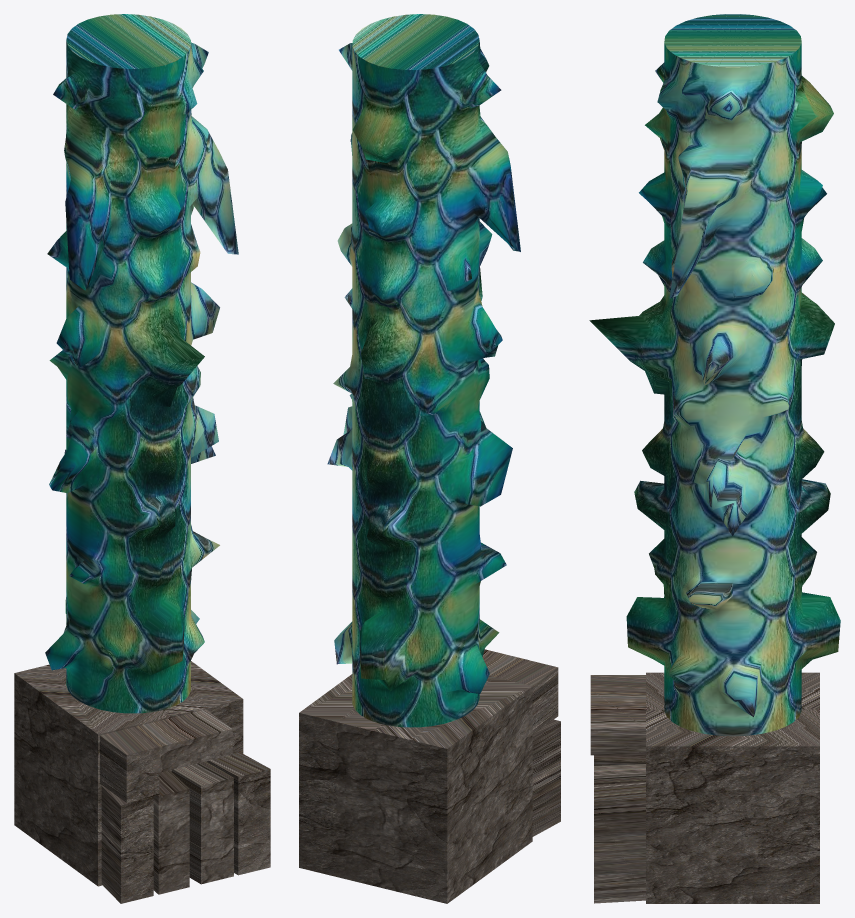
The model's file is bossHand.obj.
The picture shows the model from 3 angles, left to right: view 1: azimuth 30°, elevation 25°; view 2: azimuth 150°, elevation 25°; view 3: azimuth 270°, elevation 25°; orthographic projection. The views are drawn at different scales.
Visible parts, largest first — view 1: pCylinder1, pCube1; view 2: pCylinder1, pCube1; view 3: pCylinder1, pCube1.
Boxes of the visible parts, x1,y1,x2,y2 form: pCylinder1: [45, 14, 238, 713]; pCube1: [14, 661, 270, 903]; pCylinder1: [327, 14, 520, 727]; pCube1: [299, 649, 560, 903]; pCylinder1: [589, 14, 840, 736]; pCube1: [590, 672, 819, 903].
Size of the model in its own units: 5.34 by 24.22 by 6.68.
Materials: 2 (2 with a texture image).
